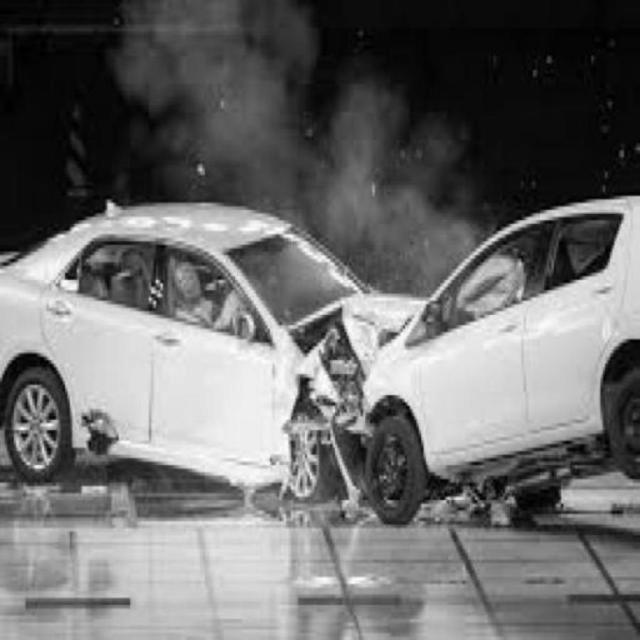accident: (9, 207, 640, 501)
